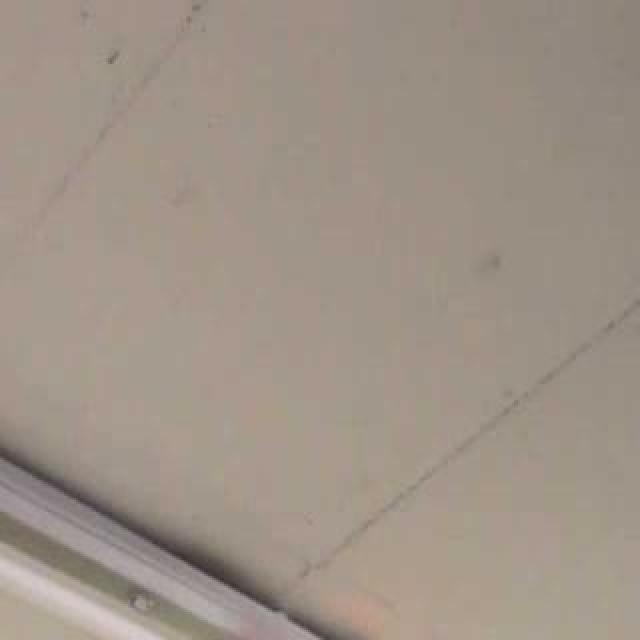fluorescent tube: (0, 140, 390, 640)
